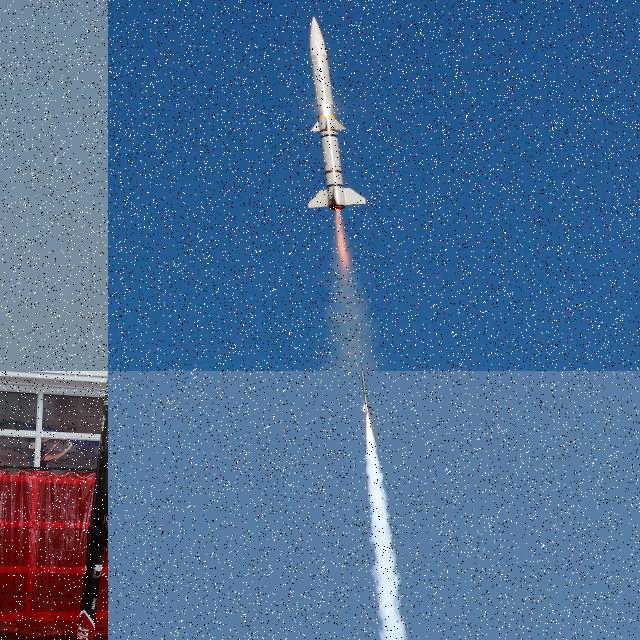Rocket: (306, 16, 369, 212), (76, 371, 108, 640), (357, 371, 369, 418)
